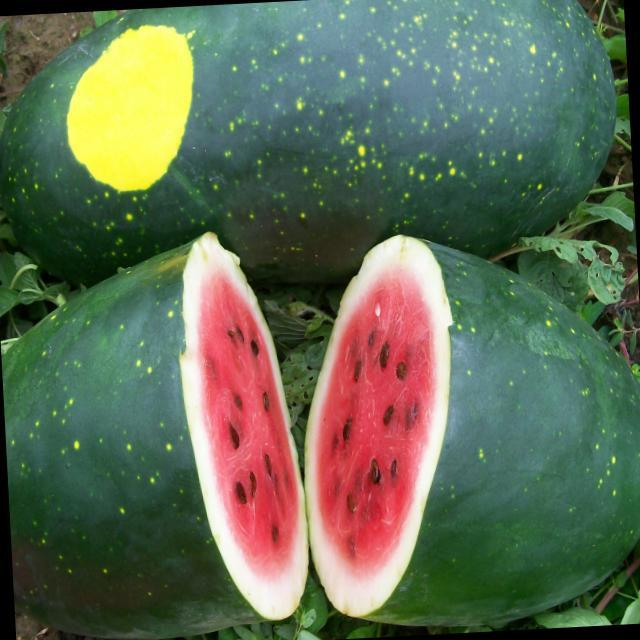WATERMELON: (21, 0, 636, 277), (293, 207, 640, 632), (0, 227, 310, 636)
